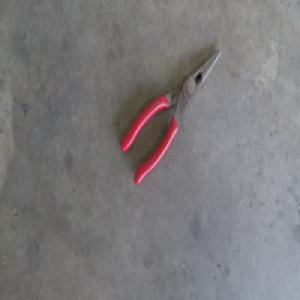Pliers: (119, 47, 223, 189)
